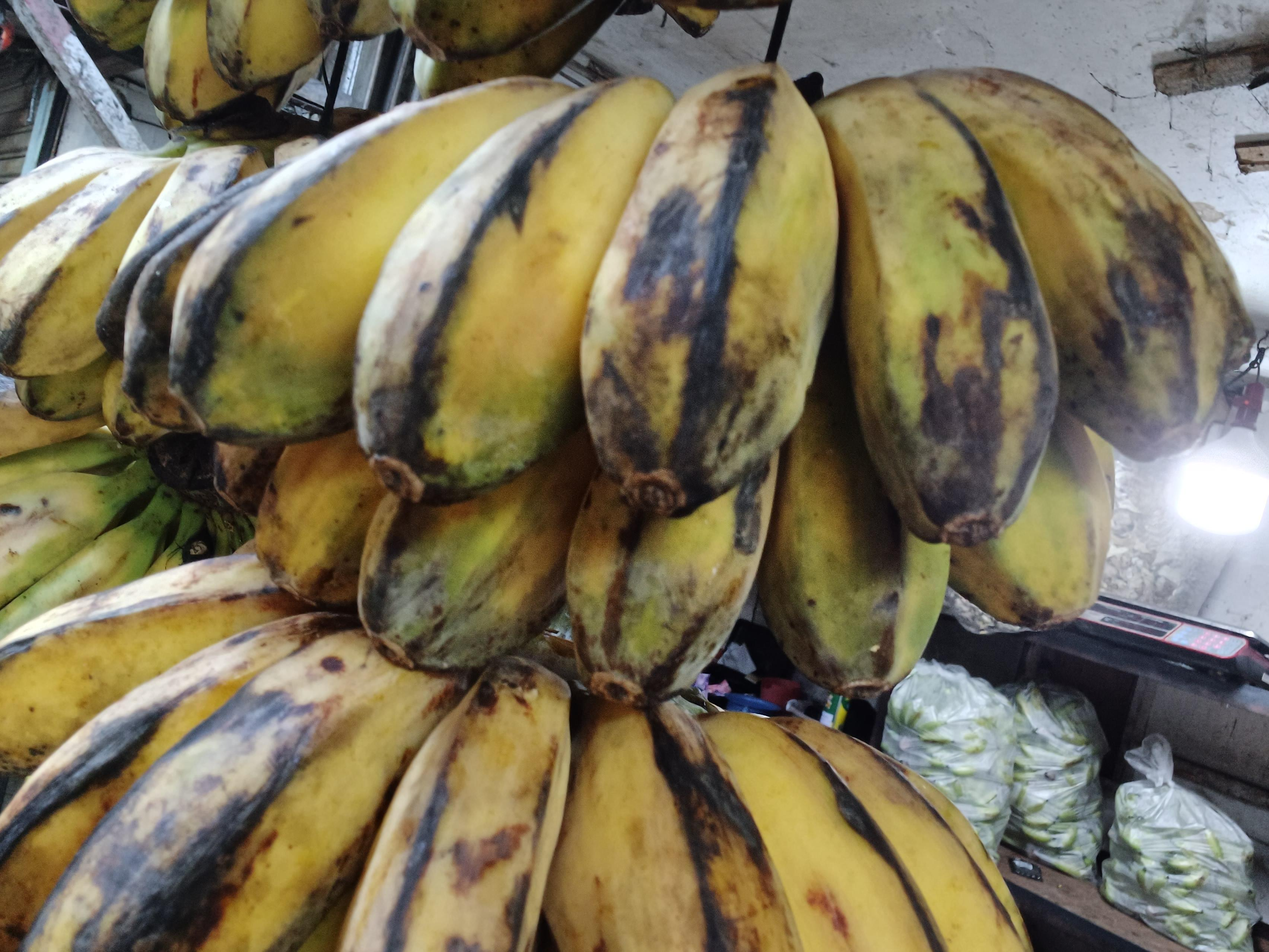ripe: (0, 555, 1034, 952), (0, 145, 267, 446)
underripe: (94, 63, 1247, 709), (0, 376, 176, 646)
